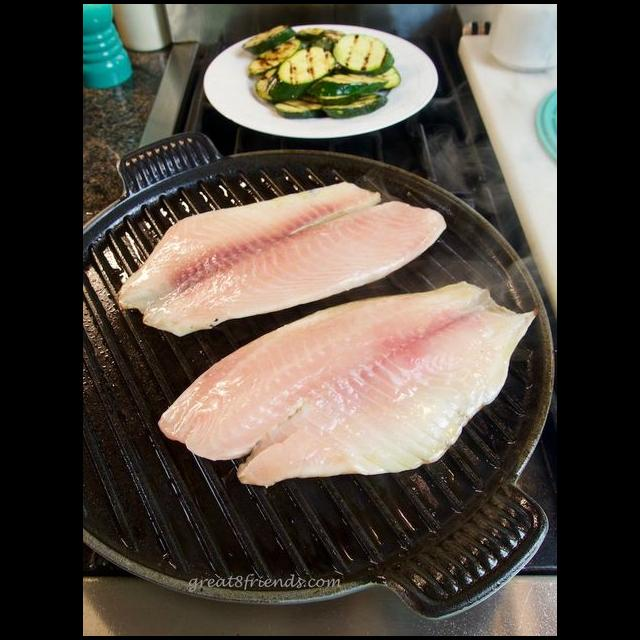fish: (158, 279, 541, 516)
